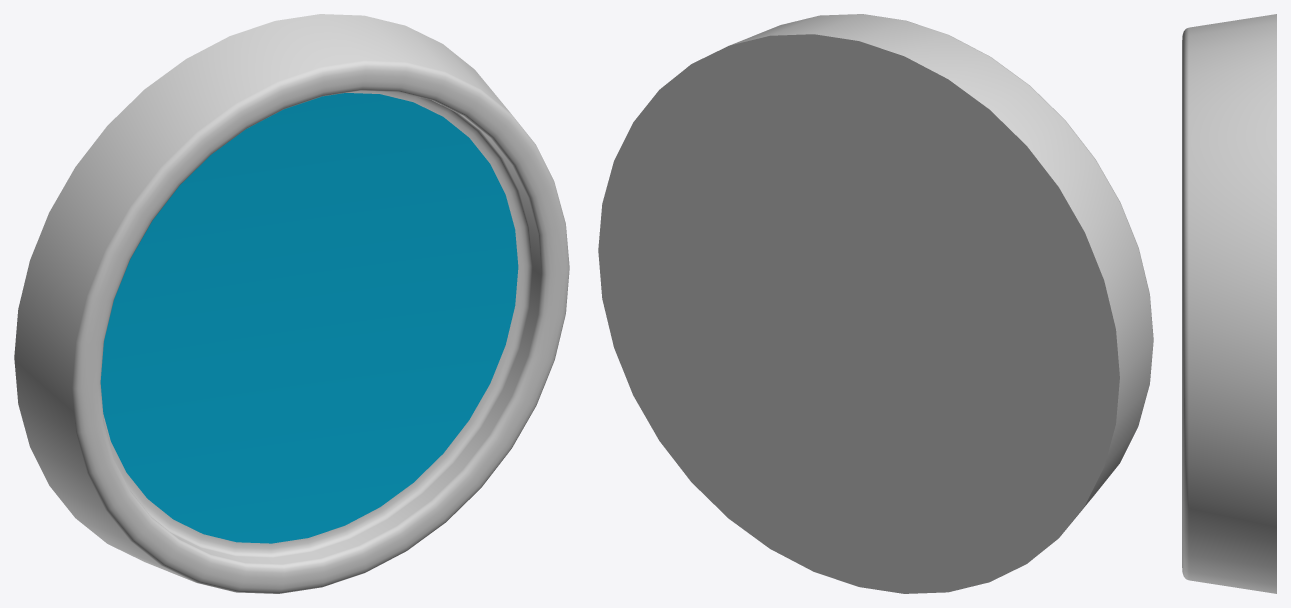
The model's file is tight_clock.fbx.
3 views of the same model, side by side, from view 1: azimuth 30°, elevation 25°; view 2: azimuth 150°, elevation 25°; view 3: azimuth 270°, elevation 25° (orthographic). The views are drawn at different scales.
Visible parts, largest first — view 1: Cylinder009; view 2: Cylinder009; view 3: Cylinder009.
Part boxes in pixels (x1,y1,x2,y2): Cylinder009: (14, 14, 569, 593); Cylinder009: (598, 14, 1153, 593); Cylinder009: (1182, 14, 1276, 593).
Size of the model in its own units: 4 by 4 by 0.652.
